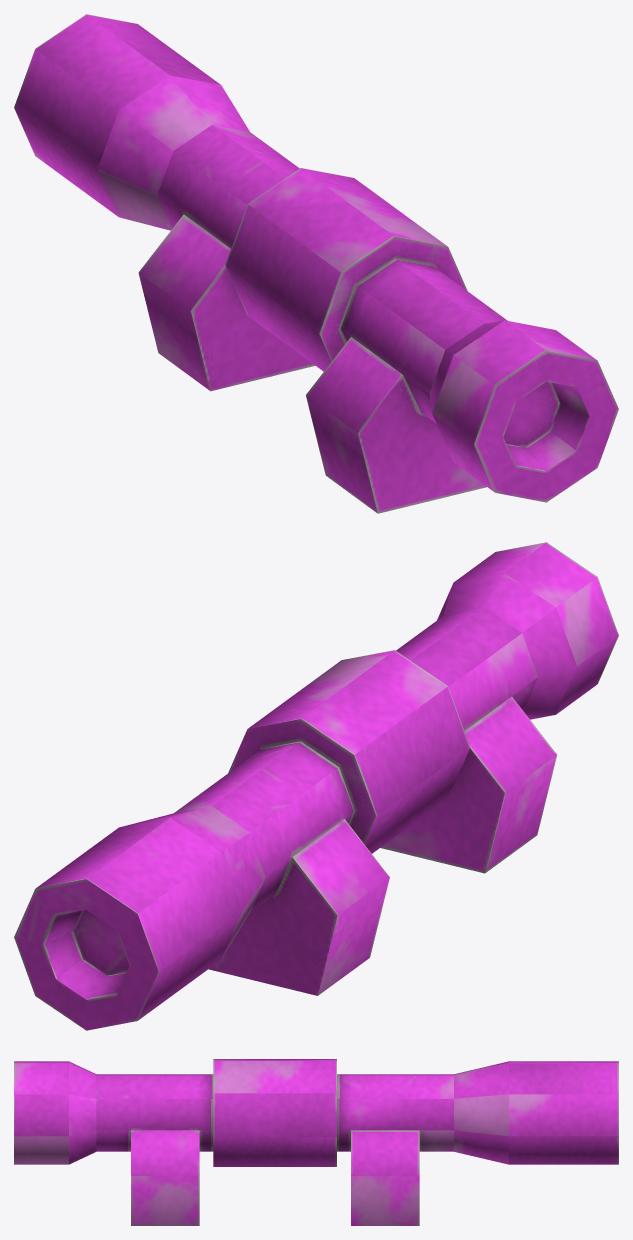
Rendered from scope-large-b.glb.
The picture shows the model from 3 angles, top to bottom: view 1: azimuth 30°, elevation 25°; view 2: azimuth 150°, elevation 25°; view 3: azimuth 270°, elevation 25°; orthographic projection. The views are drawn at different scales.
Visible parts, largest first — view 1: scope-large-b; view 2: scope-large-b; view 3: scope-large-b.
Part boxes in pixels (<box>): scope-large-b: <box>14,14,618,513</box>; scope-large-b: <box>14,542,618,1030</box>; scope-large-b: <box>14,1059,618,1225</box>.
Size of the model in its own units: 0.11 by 0.1117 by 0.44.
Materials: 1 (1 with a texture image).
